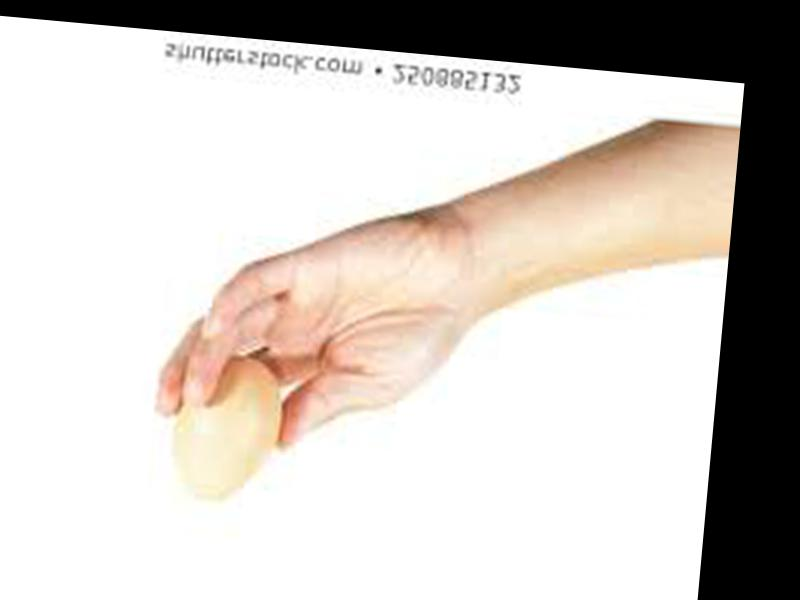Eggs: (167, 345, 286, 509)
